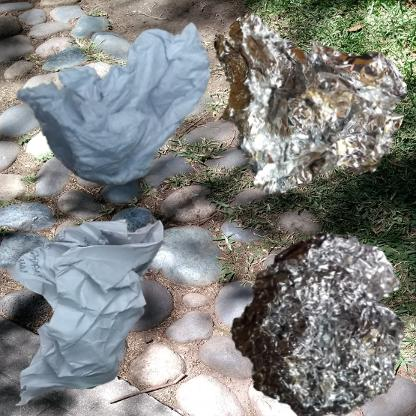aluminio: (213, 213, 416, 416), (213, 10, 409, 195)
papel: (10, 10, 216, 195), (10, 213, 164, 406)
